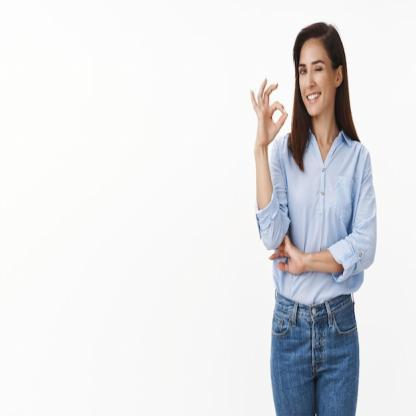ok: (249, 74, 289, 152)
